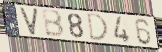4: (113, 15, 131, 44)
6: (134, 17, 153, 47)
8: (67, 13, 85, 39)
B: (40, 9, 66, 39)
D: (86, 12, 109, 42)
V: (19, 7, 40, 37)
